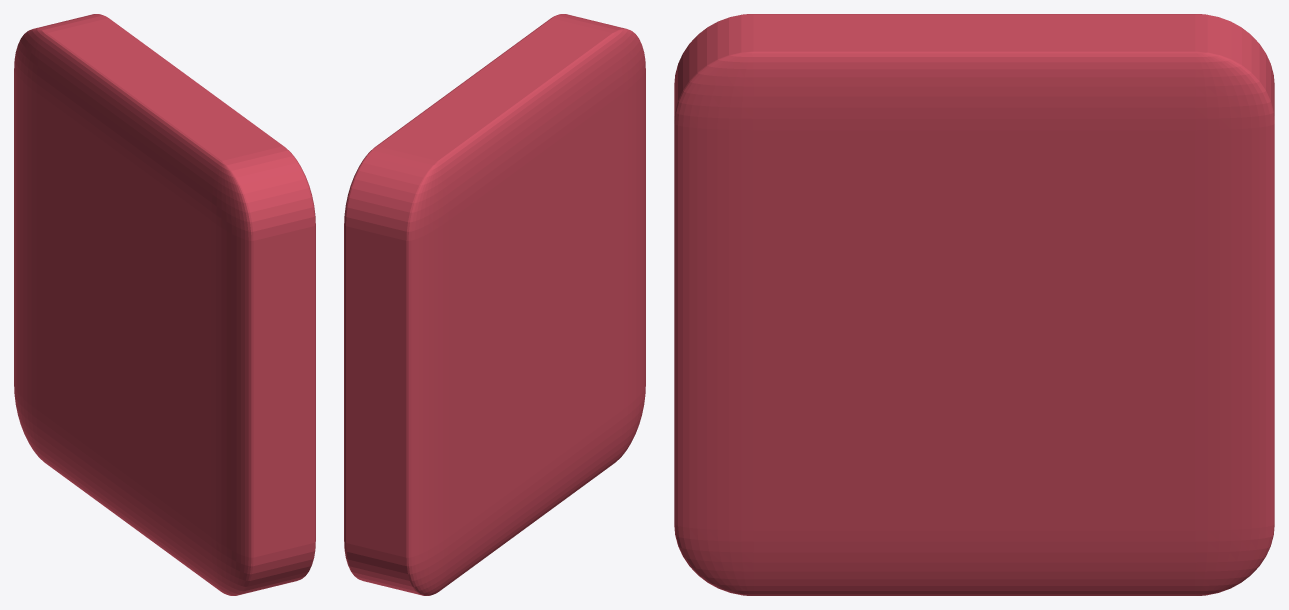
3 renders of one model, left to right at view 1: azimuth 30°, elevation 25°; view 2: azimuth 150°, elevation 25°; view 3: azimuth 270°, elevation 25°, orthographic. The views are drawn at different scales.
Parts seen in each view (by area): view 1: Mesh_Mesh_head_geo.001_lambert2SG.001; view 2: Mesh_Mesh_head_geo.001_lambert2SG.001; view 3: Mesh_Mesh_head_geo.001_lambert2SG.001.
Boxes of the visible parts, x1,y1,x2,y2 form: Mesh_Mesh_head_geo.001_lambert2SG.001: [14, 14, 315, 595]; Mesh_Mesh_head_geo.001_lambert2SG.001: [344, 14, 645, 595]; Mesh_Mesh_head_geo.001_lambert2SG.001: [674, 14, 1274, 595].
Bounding box in the file's own units: 0.003 × 0.015 × 0.015.
